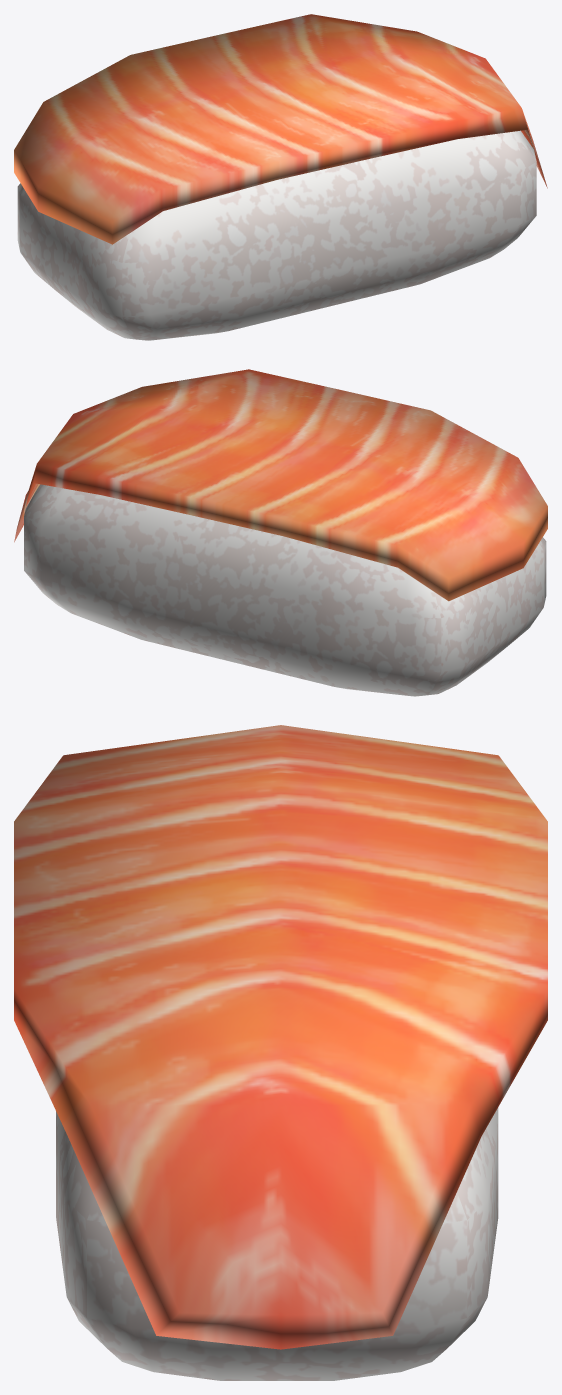
Rendered from Tai.fbx.
3 views of the same model, one above another, from view 1: azimuth 30°, elevation 25°; view 2: azimuth 150°, elevation 25°; view 3: azimuth 270°, elevation 25° (orthographic). The views are drawn at different scales.
Visible parts, largest first — view 1: Tai; view 2: Tai; view 3: Tai.
Boxes of the visible parts, x1,y1,x2,y2 form: Tai: (14,14,547,340); Tai: (14,369,547,696); Tai: (14,725,547,1380).
Bounding box in the file's own units: 1.29 × 0.6621 × 0.5203.
